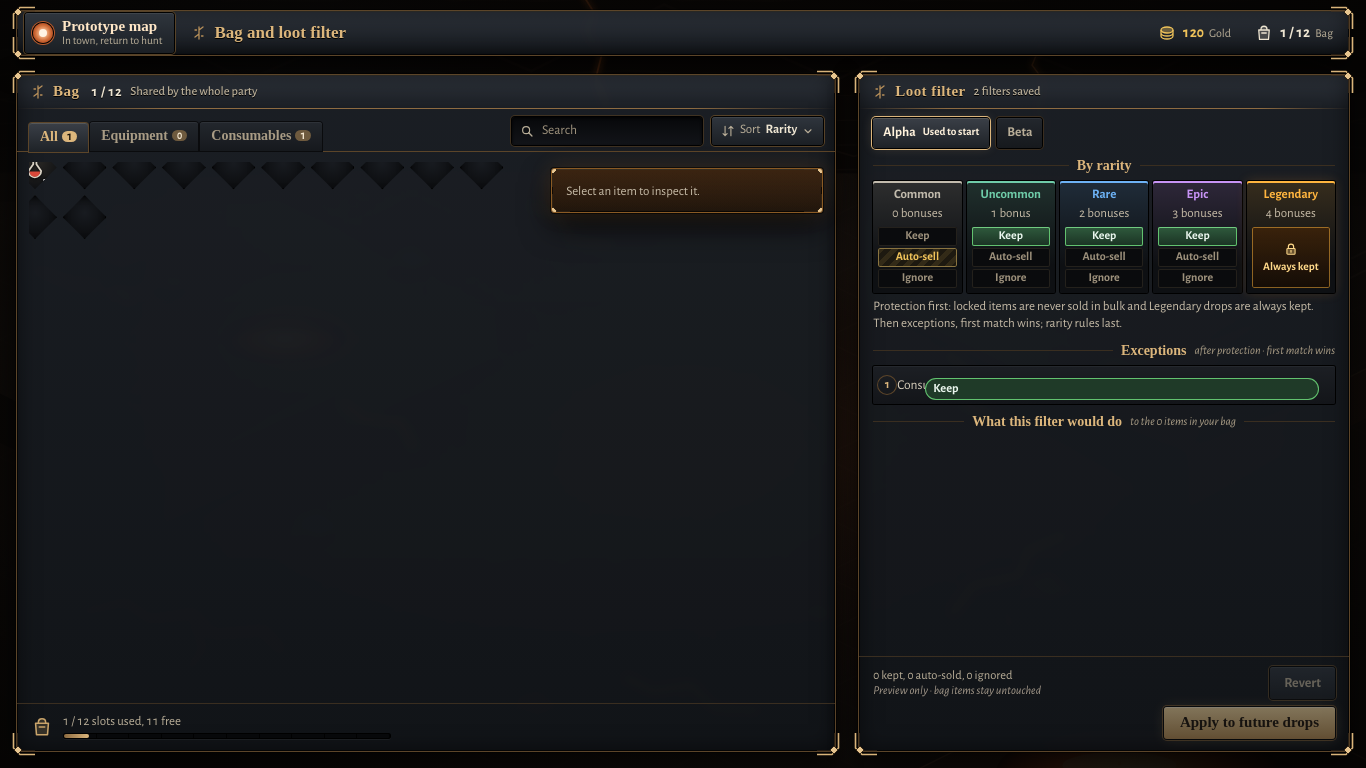
Test: the filter pane names the active filter and keeps drafts (I1, Minor 2) › switching tabs keeps each tab’s draft
The image size is (1366, 768).
Click the radio button labelled "Keep" below "0 bonuses" at [917, 236], box [878,227,957,246]
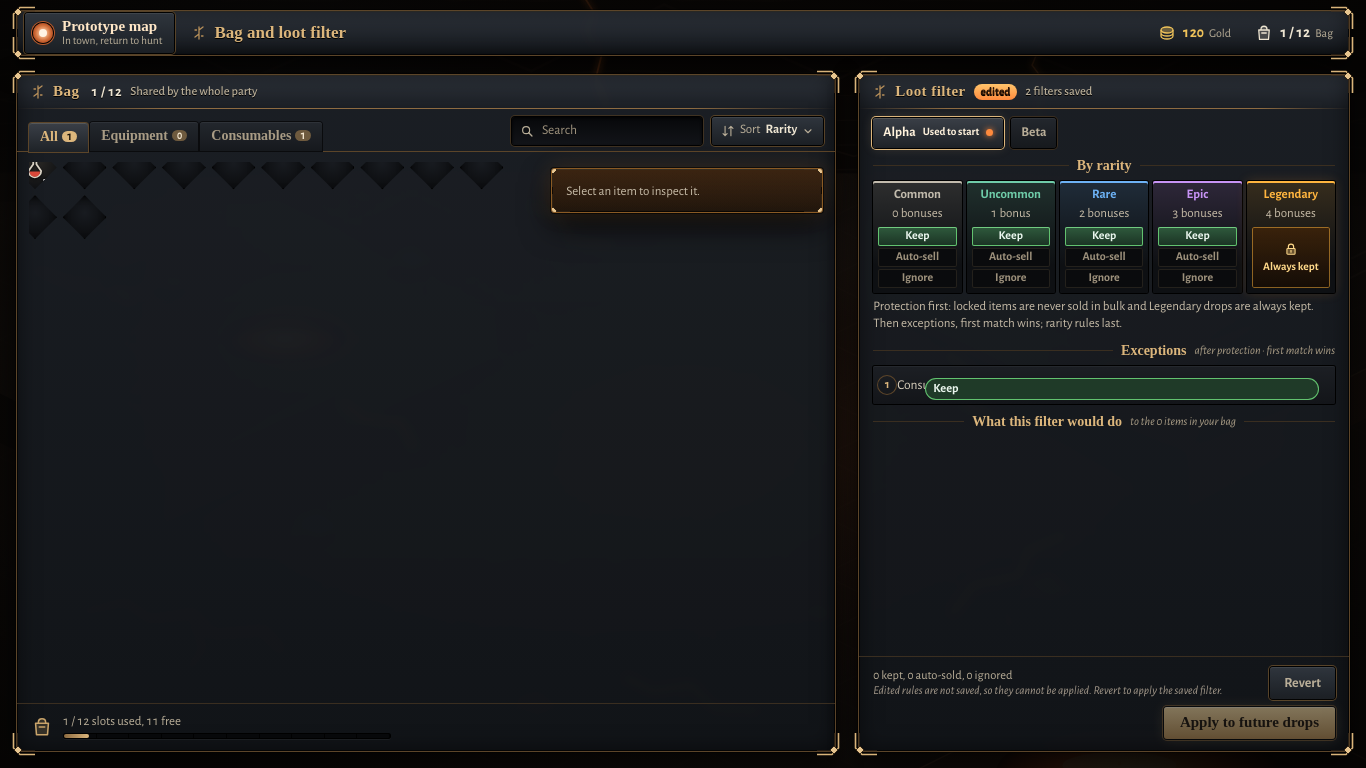
Click the radio button labelled "Beta" at [1034, 132], box [1011,118,1056,148]
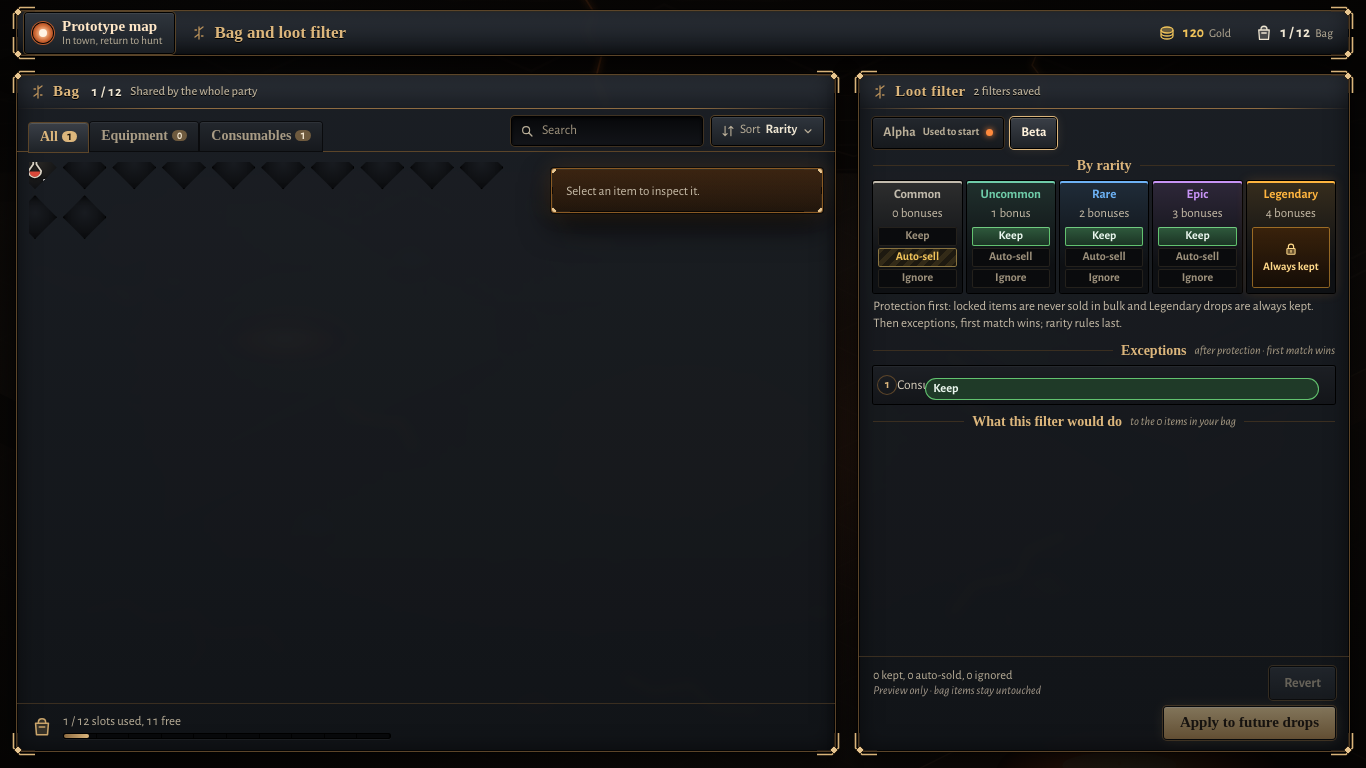
Expected: the text "edited" is gone
Click the radio button labelled "Alpha Used to start" at [938, 132], box [873,118,1003,148]
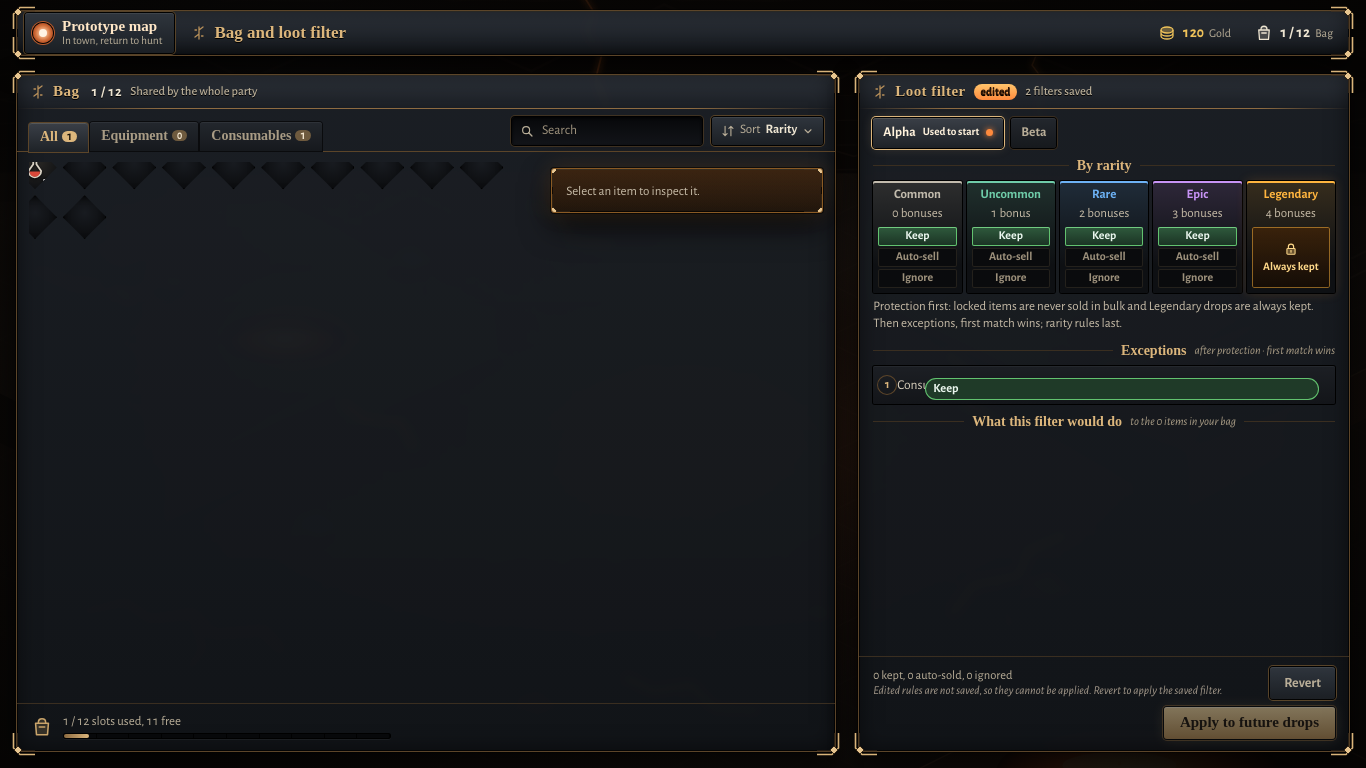
Expected: the text "edited" is shown, [974,84,1017,100]
